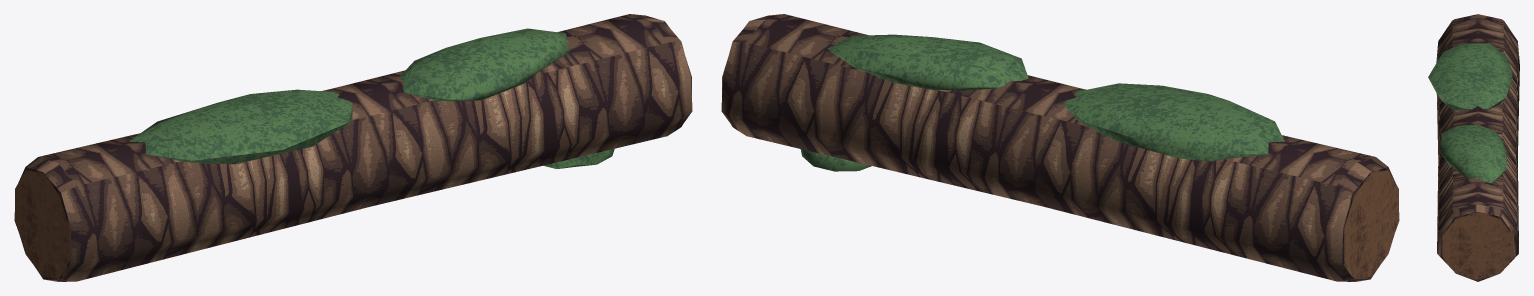
The model's file is log.glb.
3 renders of one model, left to right at view 1: azimuth 30°, elevation 25°; view 2: azimuth 150°, elevation 25°; view 3: azimuth 270°, elevation 25°, orthographic. The views are drawn at different scales.
Parts seen in each view (by area): view 1: Log; view 2: Log; view 3: Log.
Part boxes in pixels (x1,y1,x2,y2): Log: (14, 14, 692, 281); Log: (721, 14, 1399, 281); Log: (1428, 14, 1519, 281).
Bounding box in the file's own units: 3.41 × 0.689 × 0.6678.
Materials: 3 (3 with a texture image).
